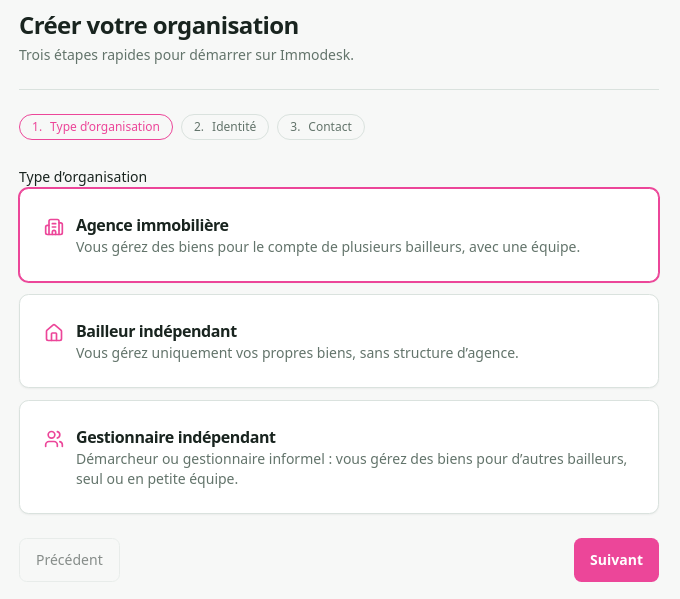
Test: OnboardingOrganisationPage — libellé du nom › affiche « Nom et prénom requis. » quand le champ est vide pour un bailleur indépendant
What coordinates should you click on to do the following:
click the radio button labelled "Bailleur indépendant"
I would click on:
 (339, 341)
Its box is [19,294,659,388].
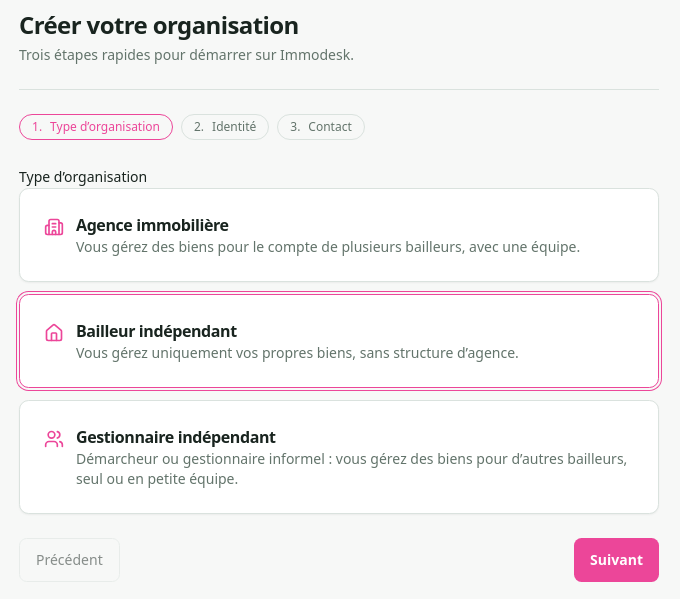
What coordinates should you click on to do the following:
click the button "Suivant"
I would click on:
 (617, 560)
Its box is [574,538,659,582].
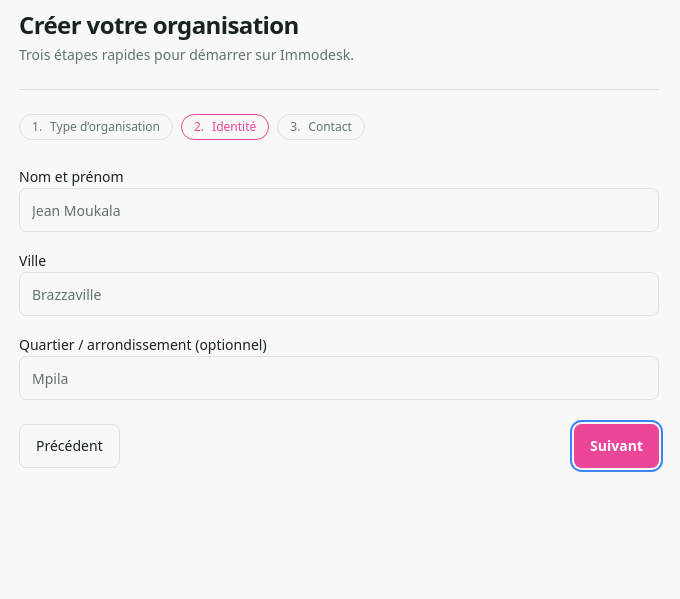
What coordinates should you click on to do the following:
click the button "Suivant"
I would click on:
 (617, 446)
Its box is [574,424,659,468].
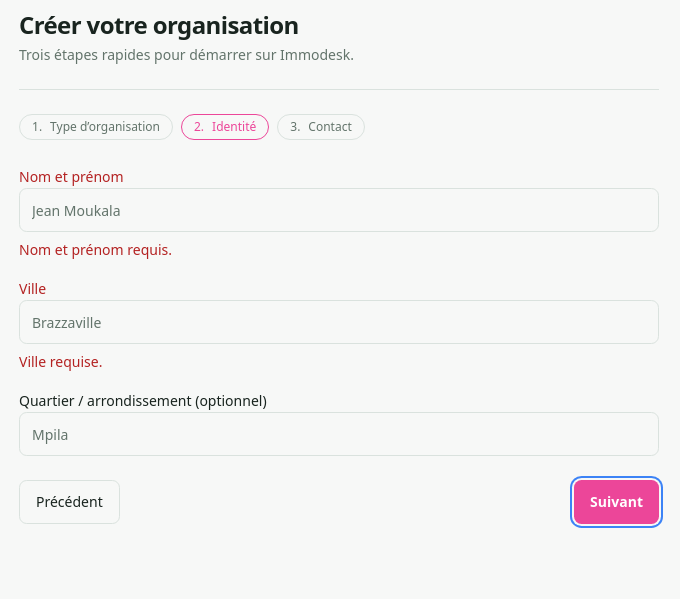
Result: the text "Nom et prénom requis." is shown at [19,240,172,259]
